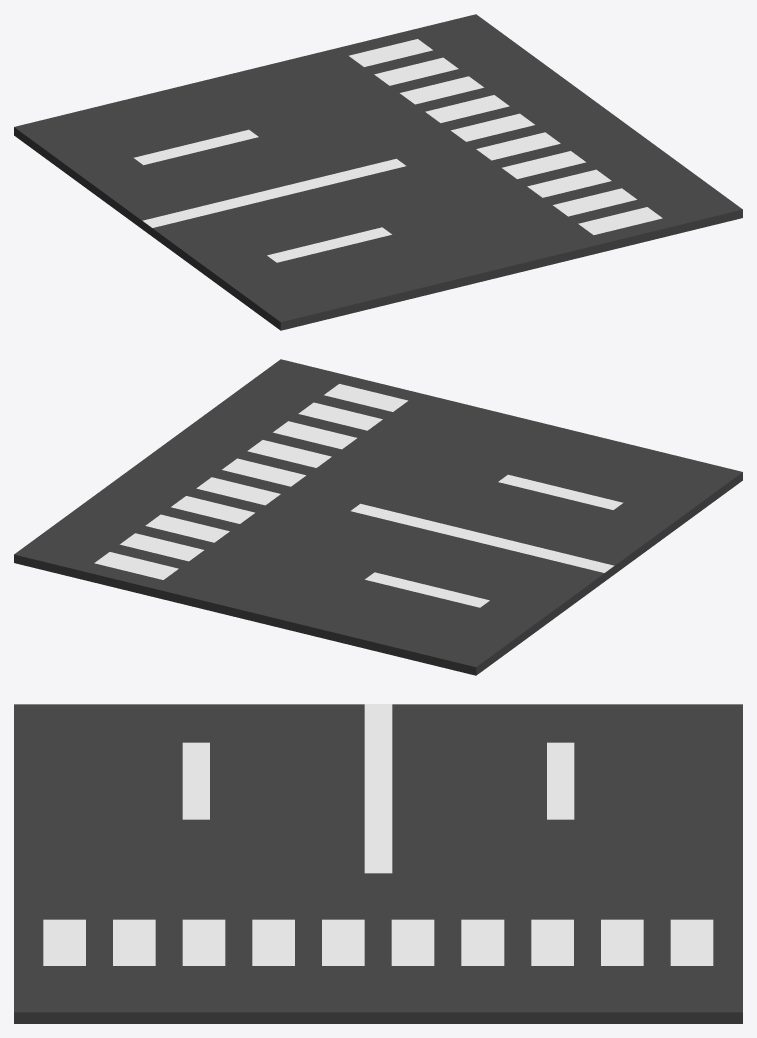
File: aft alp roads 2 zebra crossing tile.fbx
3 views of the same model, one above another, from view 1: azimuth 30°, elevation 25°; view 2: azimuth 150°, elevation 25°; view 3: azimuth 270°, elevation 25° (orthographic). The views are drawn at different scales.
Parts seen in each view (by area): view 1: aft_alp_roads_2_zebra_crossing_tile; view 2: aft_alp_roads_2_zebra_crossing_tile; view 3: aft_alp_roads_2_zebra_crossing_tile.
Part boxes in pixels (x1,y1,x2,y2): aft_alp_roads_2_zebra_crossing_tile: (14,14,742,330); aft_alp_roads_2_zebra_crossing_tile: (14,359,742,675); aft_alp_roads_2_zebra_crossing_tile: (14,704,742,1023).
Bounding box in the file's own units: 1000 × 18.01 × 1000.
